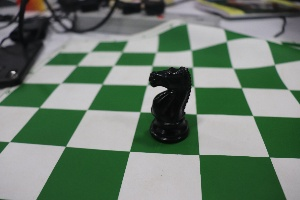black_horse: (137, 51, 200, 146)
